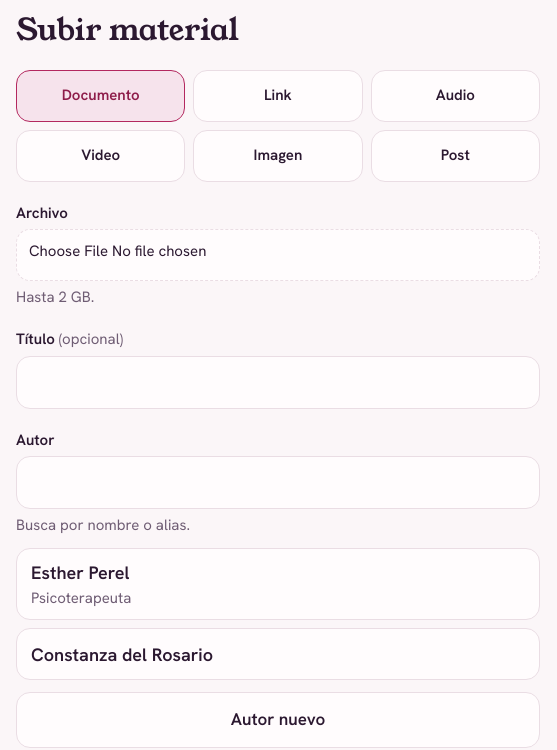
FormularioSubida: tipos › asks for the pasted text and an optional video for a post
Click the radio button labelled "Post" at (455, 156), box top-left (371, 130), bottom-right (540, 182)
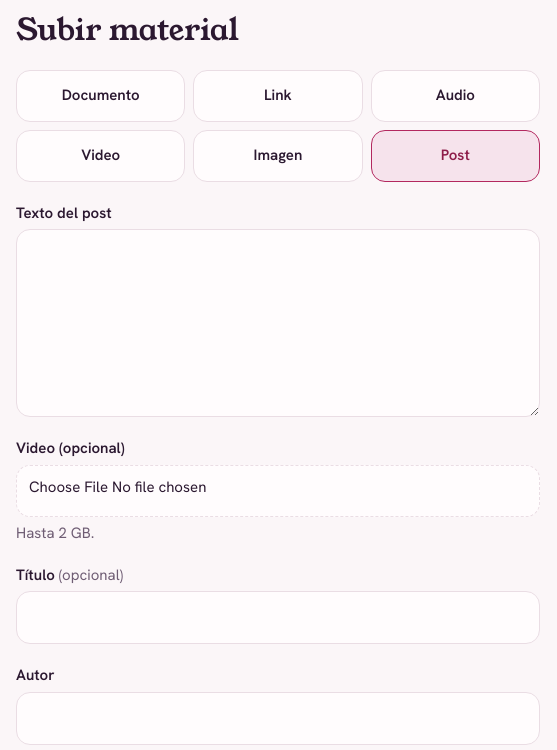
Expected: the file field labelled "Video (opcional)" is shown, top-left (16, 465), bottom-right (540, 517)
Expected: the text box labelled "Texto del post" is shown, top-left (16, 229), bottom-right (540, 417)
